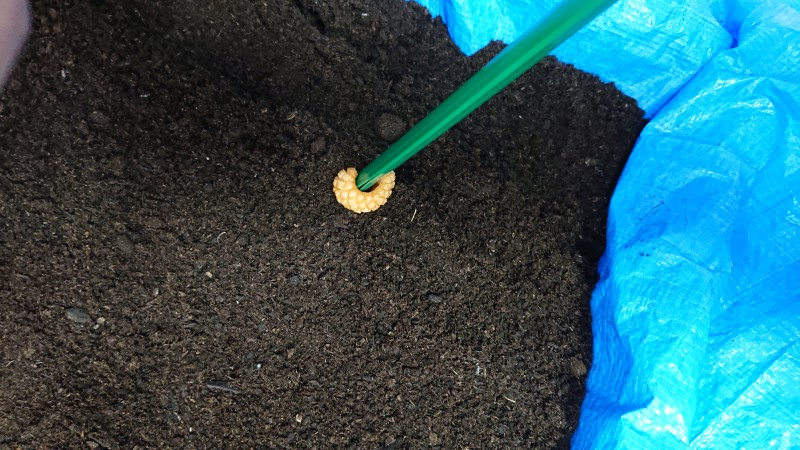eggs: (329, 163, 400, 216)
